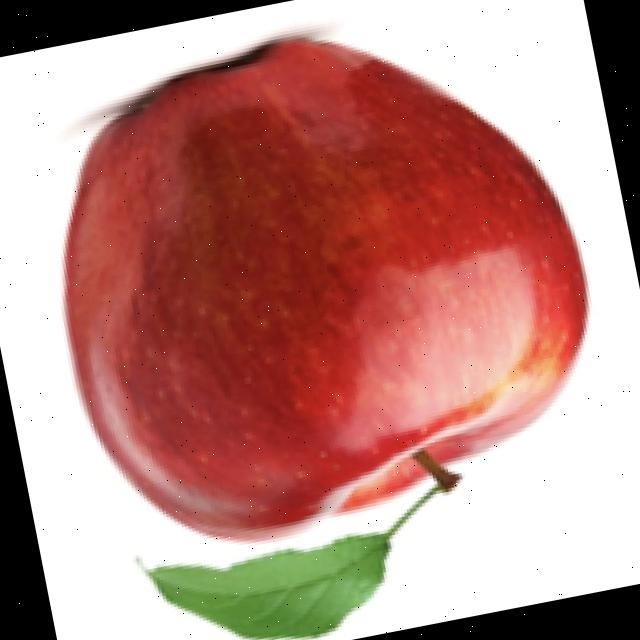apple: (59, 19, 595, 640)
